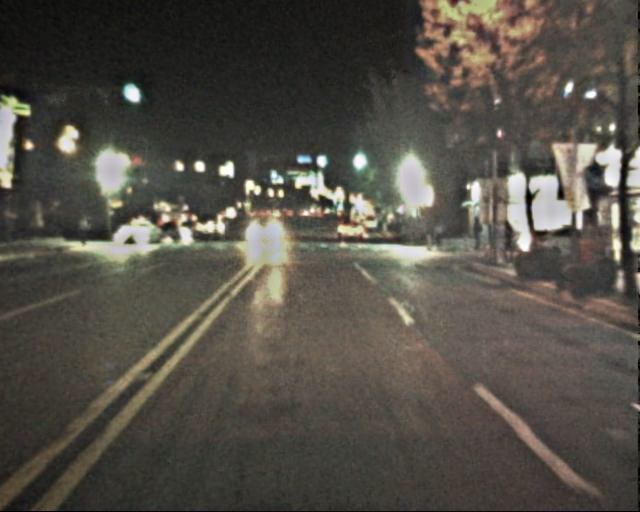person: (499, 220, 516, 262), (470, 215, 486, 254)
